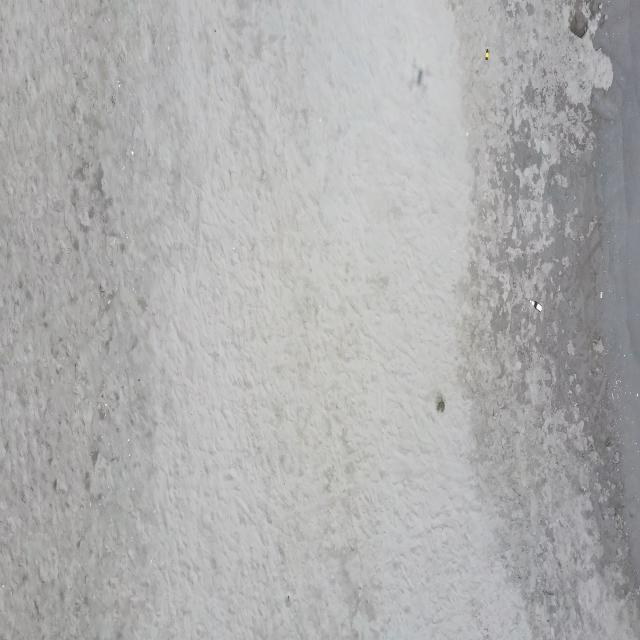glass: (529, 299, 543, 313), (485, 46, 490, 60)
